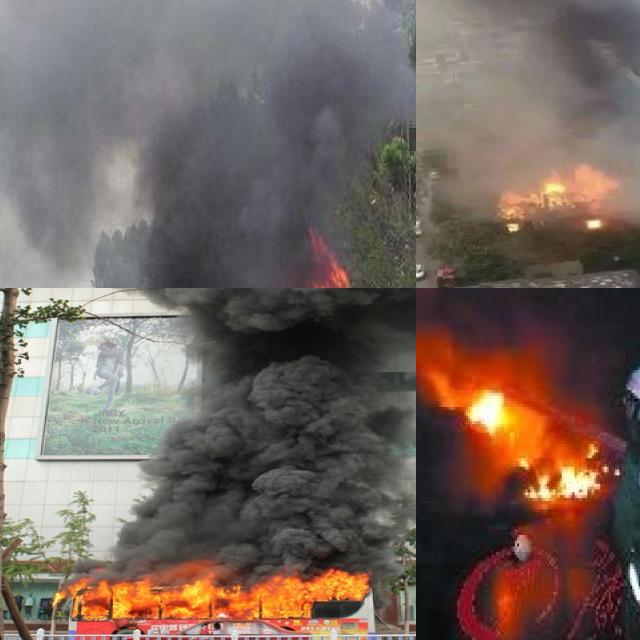fire: (66, 563, 376, 632), (493, 167, 623, 243), (523, 432, 609, 501), (449, 367, 515, 438)
smoke: (0, 0, 416, 265), (102, 288, 416, 560), (416, 0, 640, 223), (416, 321, 555, 390)
